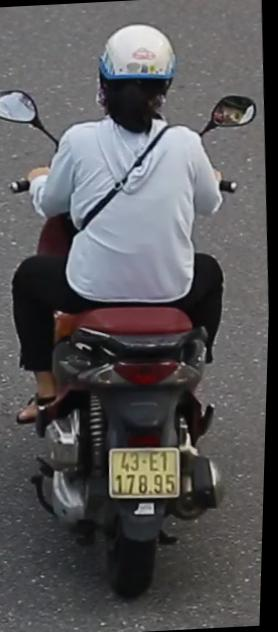LP: (107, 440, 188, 506)
helmet: (94, 16, 182, 104)
